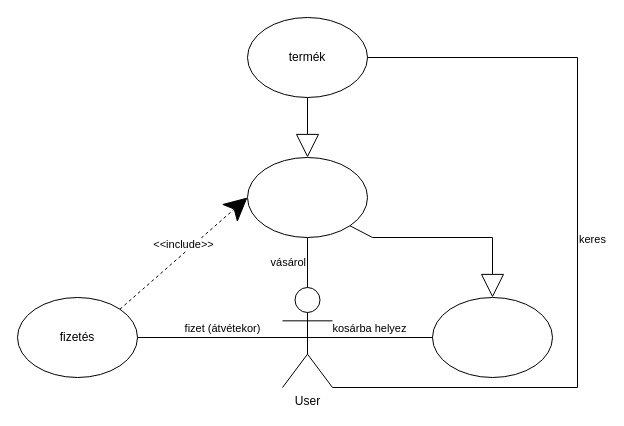
Image size: 624x426. Some labels were removed from this diagram. Here are the shapes that lost their labels. From the top down, the box of each, then its label:
(246, 156, 368, 238): vásárlás
(432, 296, 552, 378): kosár
